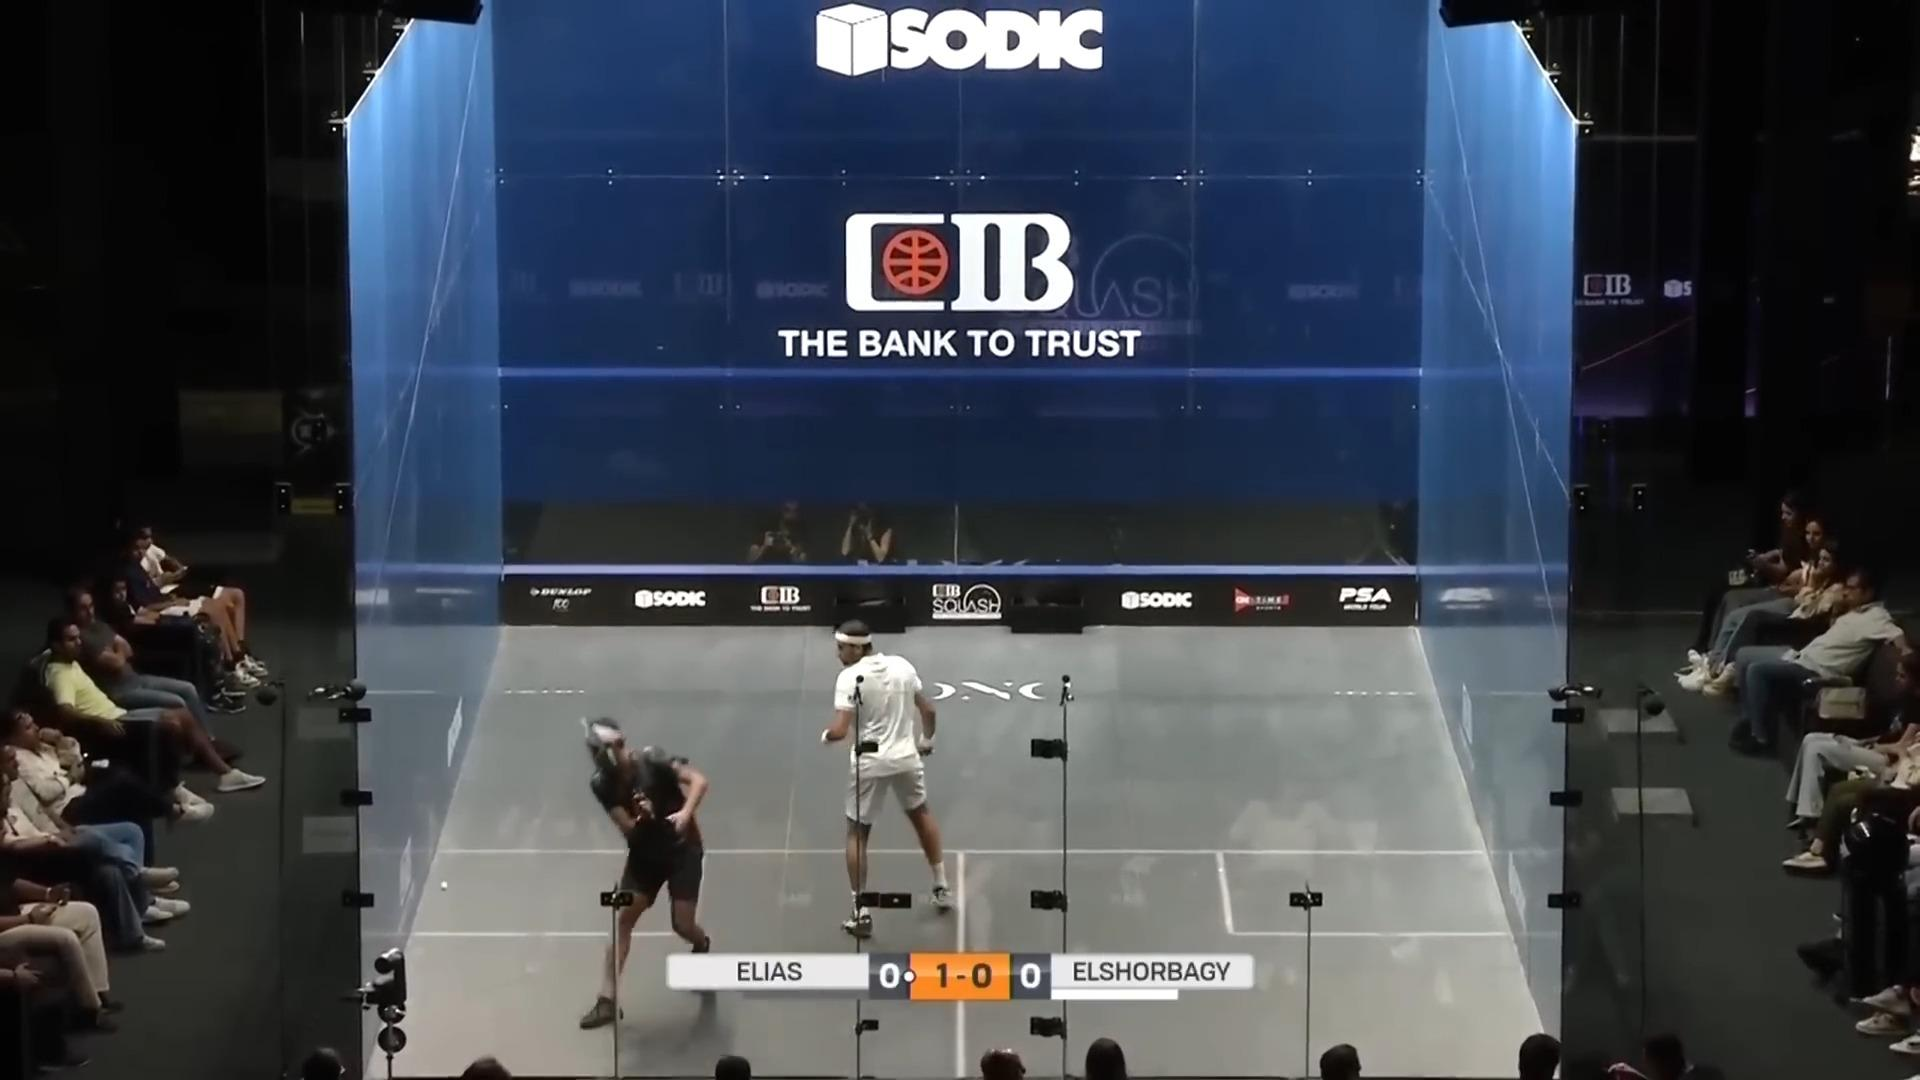Squash-Ball: (427, 872, 458, 899)
